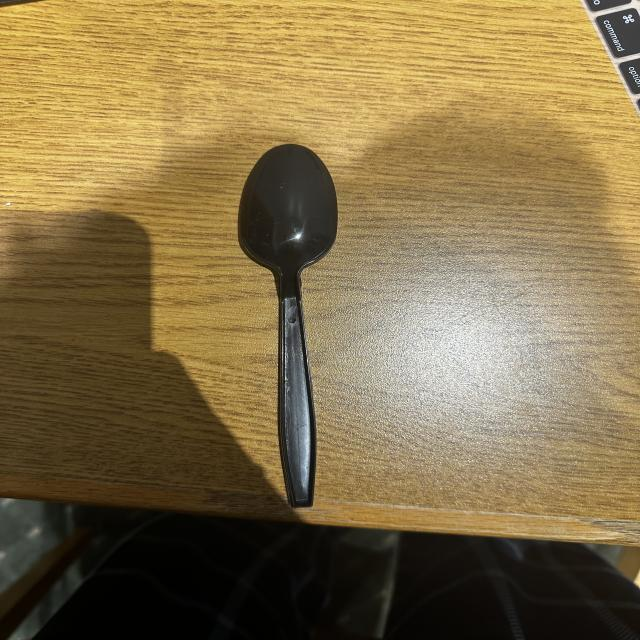spoon: (176, 114, 400, 518)
